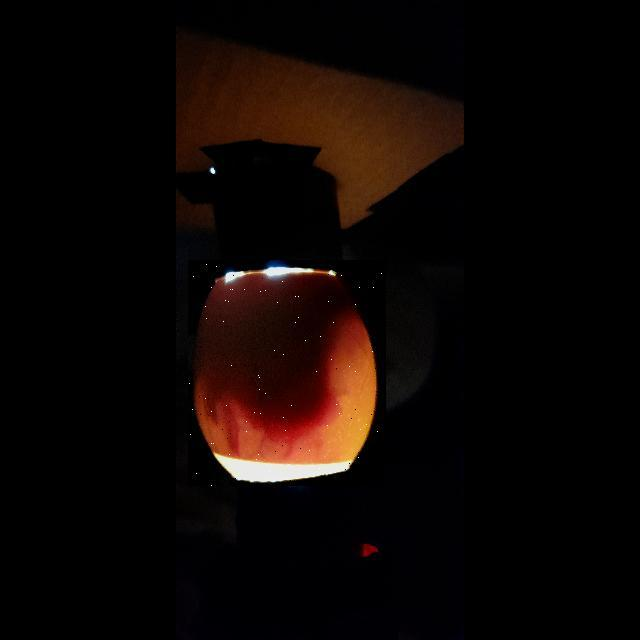Fertile: (188, 260, 386, 486)
